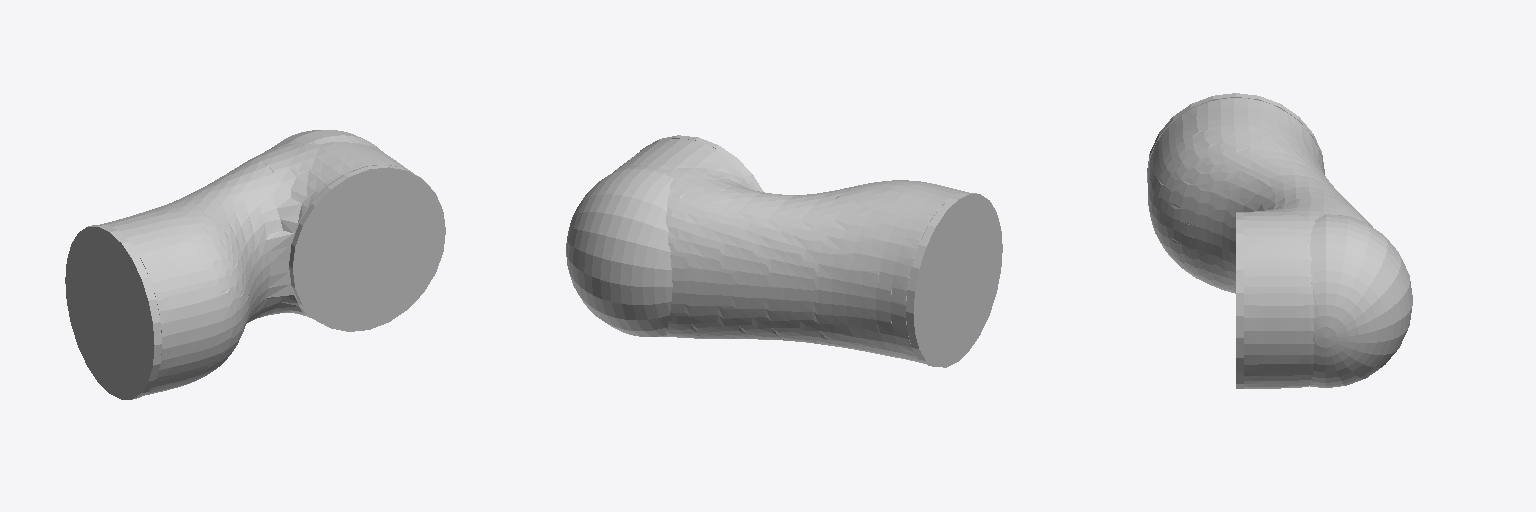
Rendered from lbr3_j4.obj.
3 renders of one model, left to right at view 1: azimuth 30°, elevation 25°; view 2: azimuth 150°, elevation 25°; view 3: azimuth 270°, elevation 25°, orthographic.
Visible parts, largest first — view 1: Entity_link__4, Default_3_link__4, Default_2_link__4, Default_1_link__5; view 2: Entity_link__4, Default_1_link__5, Default_2_link__4; view 3: Entity_link__4, Default_1_link__5, Default_3_link__4, Default_2_link__4.
Part boxes in pixels (left/top/right/bottom): Entity_link__4: left=100, top=142, right=412, bottom=395; Default_3_link__4: left=289, top=165, right=445, bottom=331; Default_2_link__4: left=65, top=225, right=161, bottom=399; Default_1_link__5: left=271, top=130, right=383, bottom=152; Entity_link__4: left=613, top=139, right=964, bottom=363; Default_1_link__5: left=566, top=165, right=672, bottom=336; Default_2_link__4: left=906, top=192, right=1002, bottom=367; Entity_link__4: left=1148, top=98, right=1372, bottom=388; Default_1_link__5: left=1310, top=214, right=1412, bottom=387; Default_3_link__4: left=1236, top=212, right=1243, bottom=388; Default_2_link__4: left=1147, top=93, right=1324, bottom=182.
Bounding box in the file's own units: 0.1793 × 0.0825 × 0.1231.